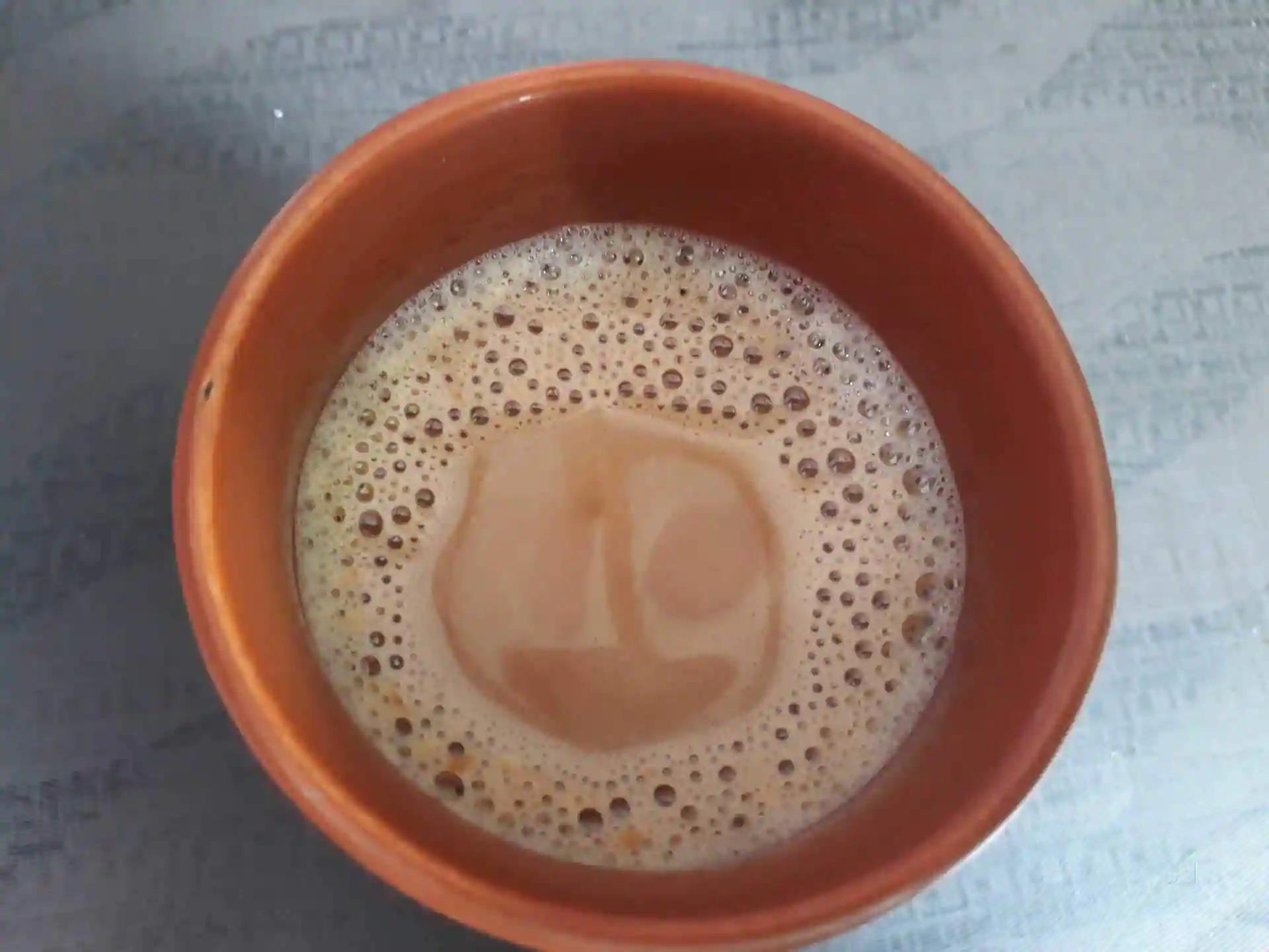Chai: (294, 216, 963, 872)
